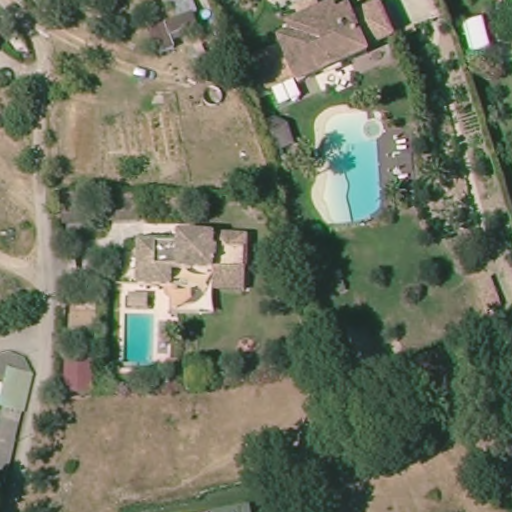pool: (319, 107, 384, 228), (115, 308, 162, 369), (196, 5, 212, 21)
